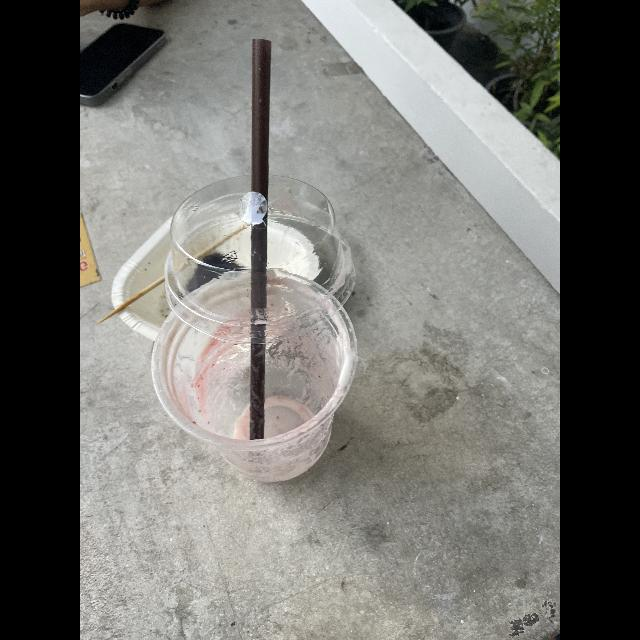plastic_cup: (148, 268, 370, 488)
plastic_cup_lid: (160, 170, 350, 348)
straw: (245, 28, 275, 446)
